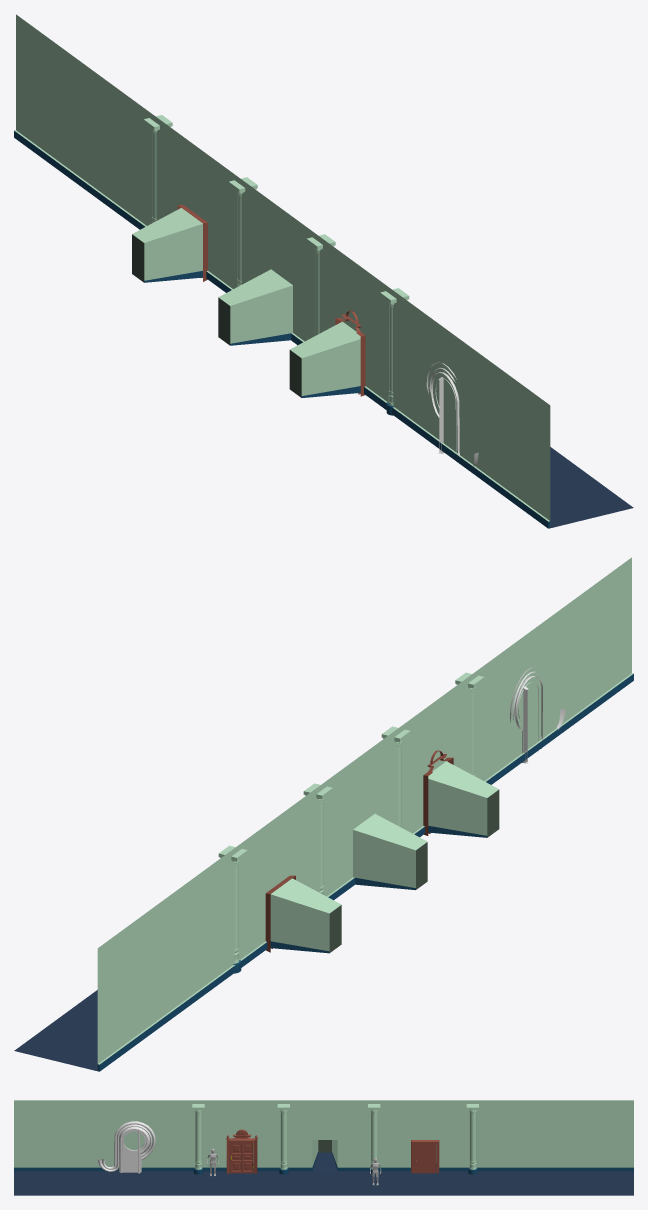
Rendered from Hallway 1.fbx.
3 views of the same model, one above another, from view 1: azimuth 30°, elevation 25°; view 2: azimuth 150°, elevation 25°; view 3: azimuth 270°, elevation 25° (orthographic). The views are drawn at different scales.
Visible parts, largest first — view 1: Hallway, Column.001, Column.002; view 2: Hallway, Column.003, Column.002; view 3: Hallway, Door1.001, DoorNouveu.001, Door1.005, Column.003, Door1, Column, Column.001, Column.002, DoorNouveu, DoorNouveu.002, Door1.004 (+2 smaller).
Boxes of the visible parts, x1,y1,x2,y2 form: Hallway: (14,14,633,528); Column.001: (380,288,409,415); Column.002: (228,177,257,286); Hallway: (14,557,633,1071); Column.003: (218,845,247,973); Column.002: (303,783,332,894); Hallway: (14,1100,633,1195); Door1.001: (230,1142,253,1173); DoorNouveu.001: (97,1121,155,1171); Door1.005: (413,1144,436,1173); Column.003: (466,1104,478,1174); Door1: (226,1129,257,1173); Column: (277,1104,289,1174); Column.001: (192,1104,204,1174); Column.002: (368,1104,380,1174); DoorNouveu: (119,1126,150,1172); DoorNouveu.002: (123,1130,137,1172); Door1.004: (411,1140,439,1173).
Size of the model in its own units: 577 by 3769 by 491.
